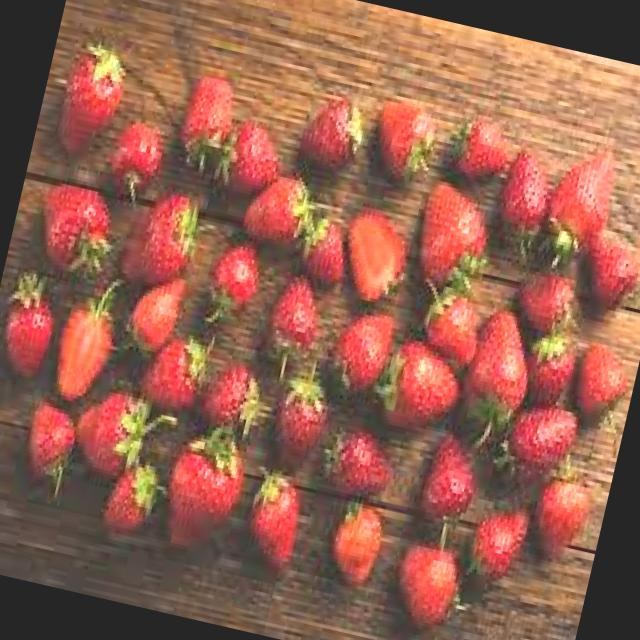strawberry: (42, 18, 142, 174), (150, 415, 252, 553), (452, 293, 546, 437), (534, 132, 624, 280), (400, 175, 504, 292), (364, 324, 468, 438), (41, 268, 125, 406), (21, 168, 122, 279), (120, 177, 212, 296), (381, 530, 475, 638), (162, 62, 246, 181), (234, 464, 316, 576), (487, 133, 561, 257), (255, 270, 333, 383), (408, 430, 490, 536), (60, 387, 150, 480), (360, 82, 444, 181), (334, 204, 414, 304), (292, 75, 372, 173), (568, 324, 640, 431), (0, 267, 65, 380), (522, 472, 600, 566), (501, 394, 584, 482), (260, 376, 332, 476), (9, 394, 86, 487), (320, 411, 406, 494), (318, 492, 392, 586), (90, 455, 167, 545), (242, 156, 316, 248), (460, 504, 530, 601), (440, 108, 522, 186), (200, 236, 265, 328), (132, 331, 209, 402)
